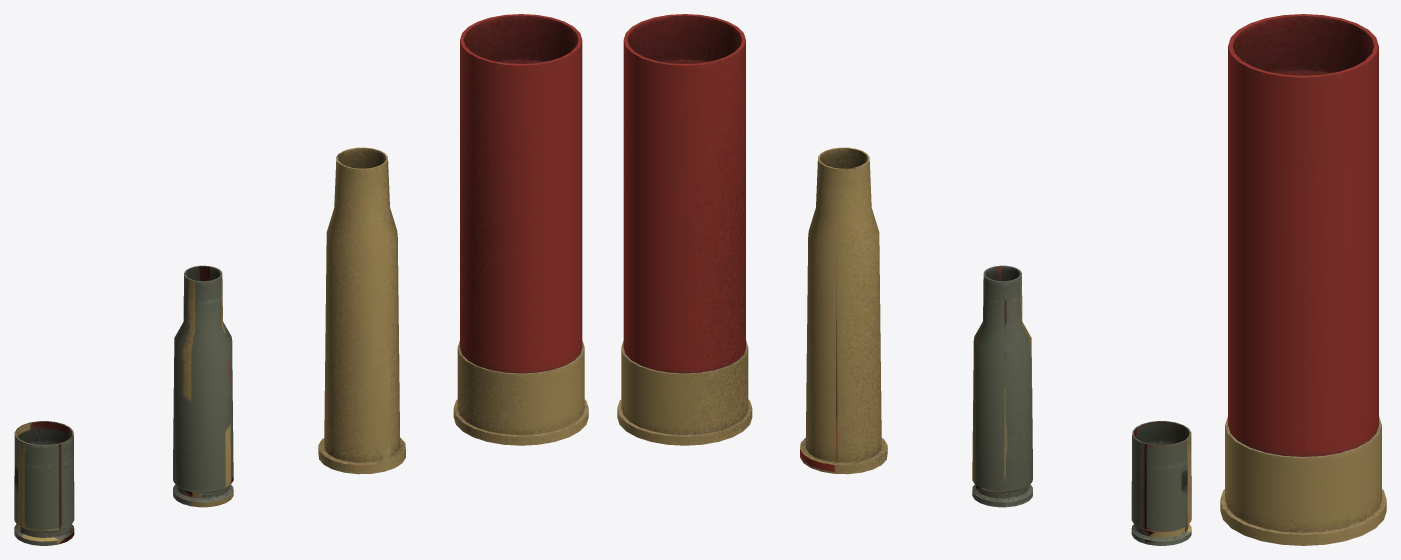
Rendered from casings.glb.
The picture shows the model from 3 angles, left to right: view 1: azimuth 30°, elevation 25°; view 2: azimuth 150°, elevation 25°; view 3: azimuth 270°, elevation 25°; orthographic projection. The views are drawn at different scales.
Parts seen in each view (by area): view 1: hull_12, case_762r, case_545, case_9x18; view 2: hull_12, case_762r, case_545, case_9x18; view 3: hull_12.
Part boxes in pixels (box(x1,y1,x2,y2)): hull_12: box(453, 14, 588, 445); case_762r: box(318, 147, 405, 474); case_545: box(173, 265, 233, 507); case_9x18: box(14, 421, 74, 545); hull_12: box(617, 14, 752, 445); case_762r: box(800, 147, 887, 474); case_545: box(972, 265, 1032, 507); case_9x18: box(1131, 421, 1191, 545); hull_12: box(1220, 14, 1386, 545).
Size of the model in its own units: 0.106 by 0.0681 by 0.0221.
Materials: 1 (1 with a texture image).
